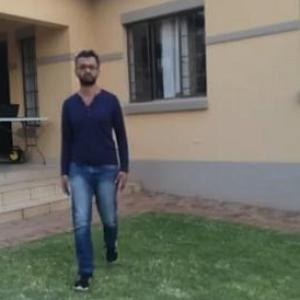follow: (58, 42, 133, 292)
